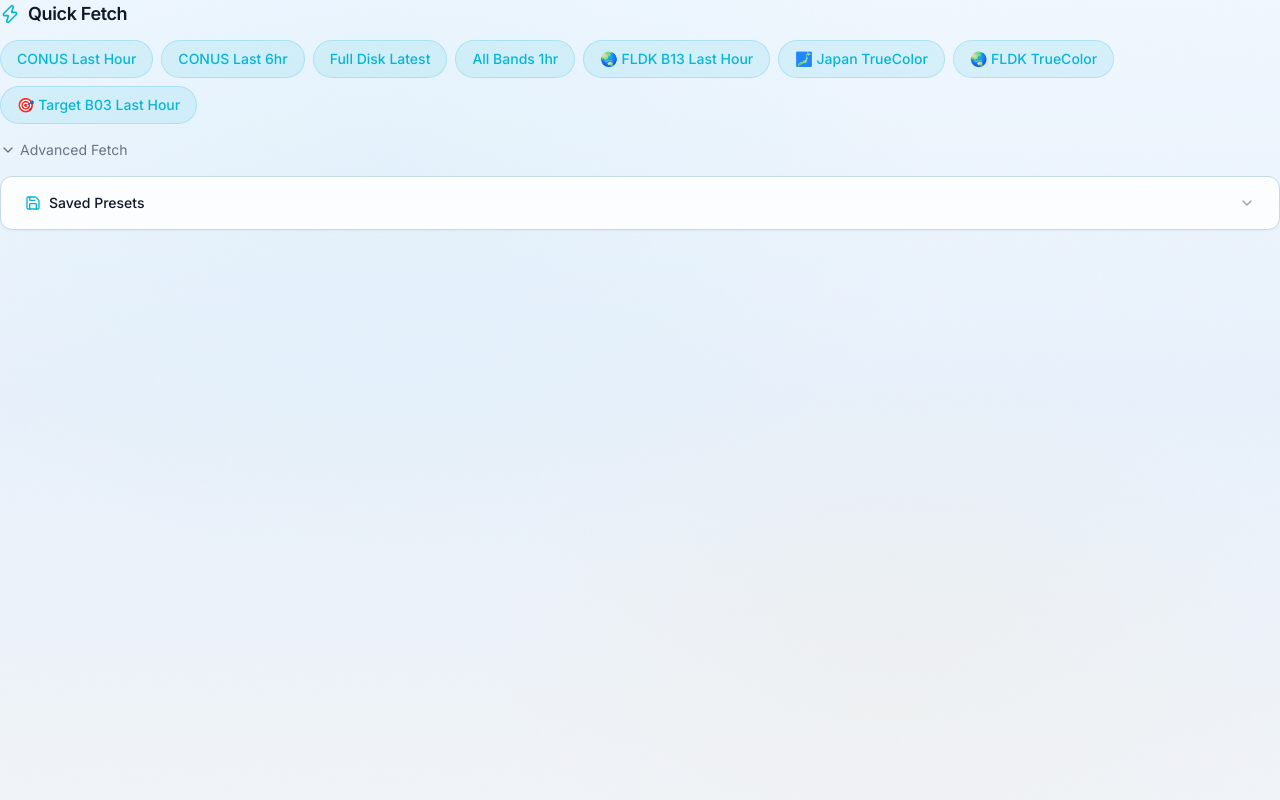
Test: FetchFlowComplete › confirm dialog appears on submit
Click the button with test id "advanced-fetch-toggle" at [64, 150], box [0,140,128,160]
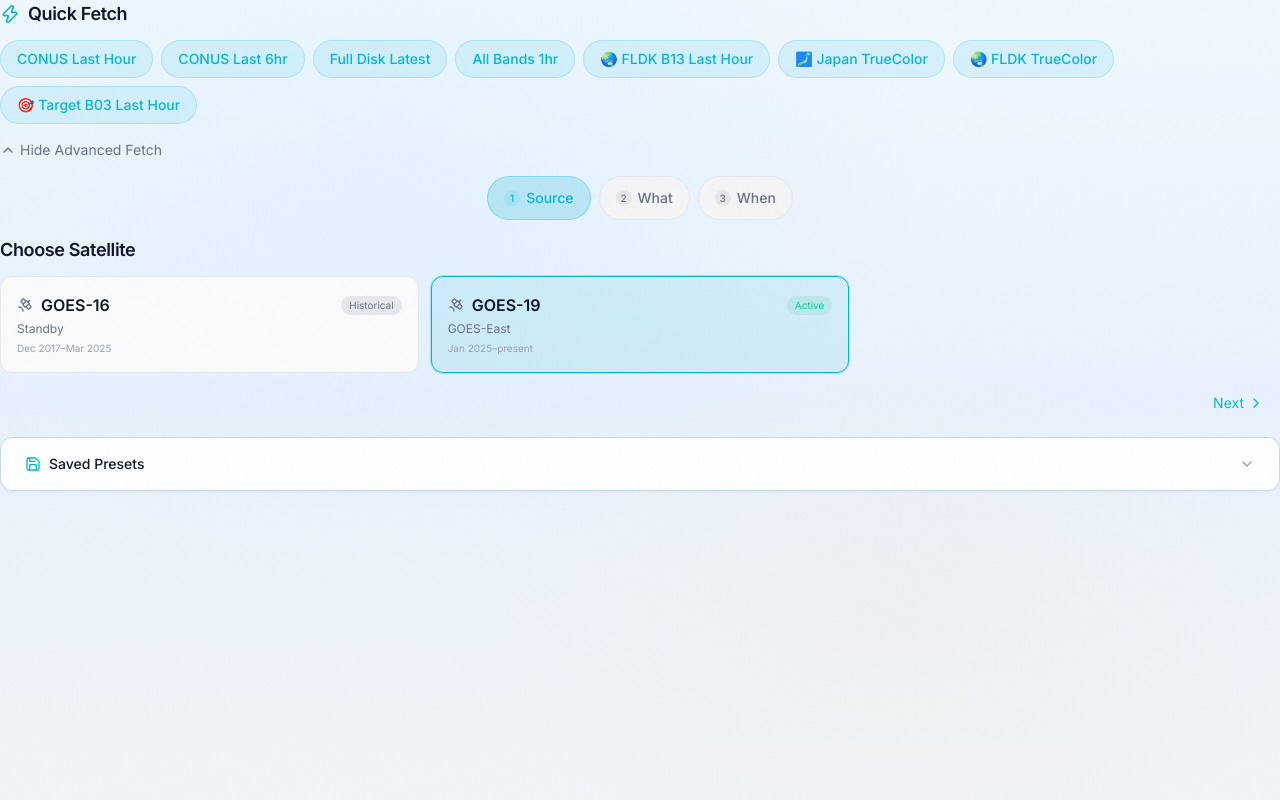
Check: the heading "Choose Satellite" is shown, box [0,239,135,260]
Click the button "Next" at [1239, 403], box [1197,385,1279,421]
(page scrolled)
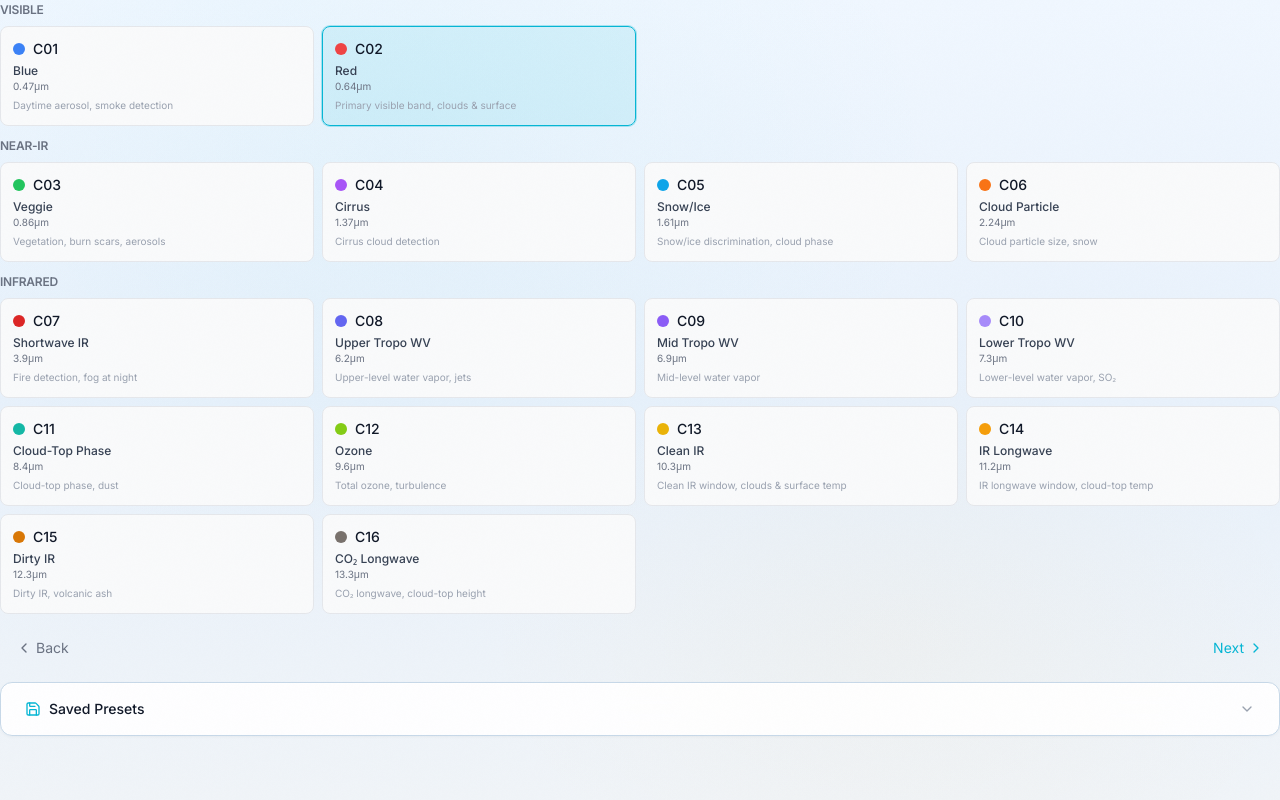
Click the button "Next" at [1239, 648], box [1197,630,1279,666]
(page scrolled)
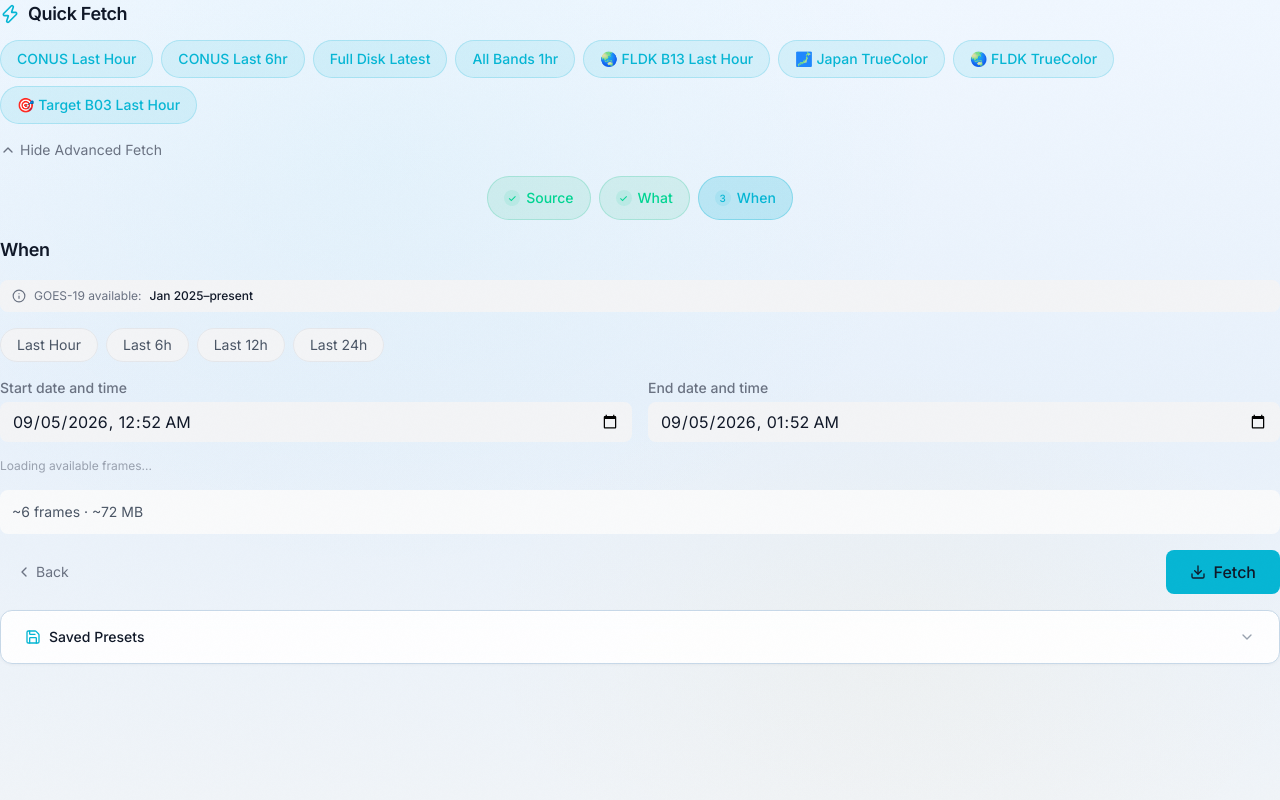
Check: the button "Last Hour" is shown
Click the button "Last Hour" at [49, 345], box [0,328,98,362]
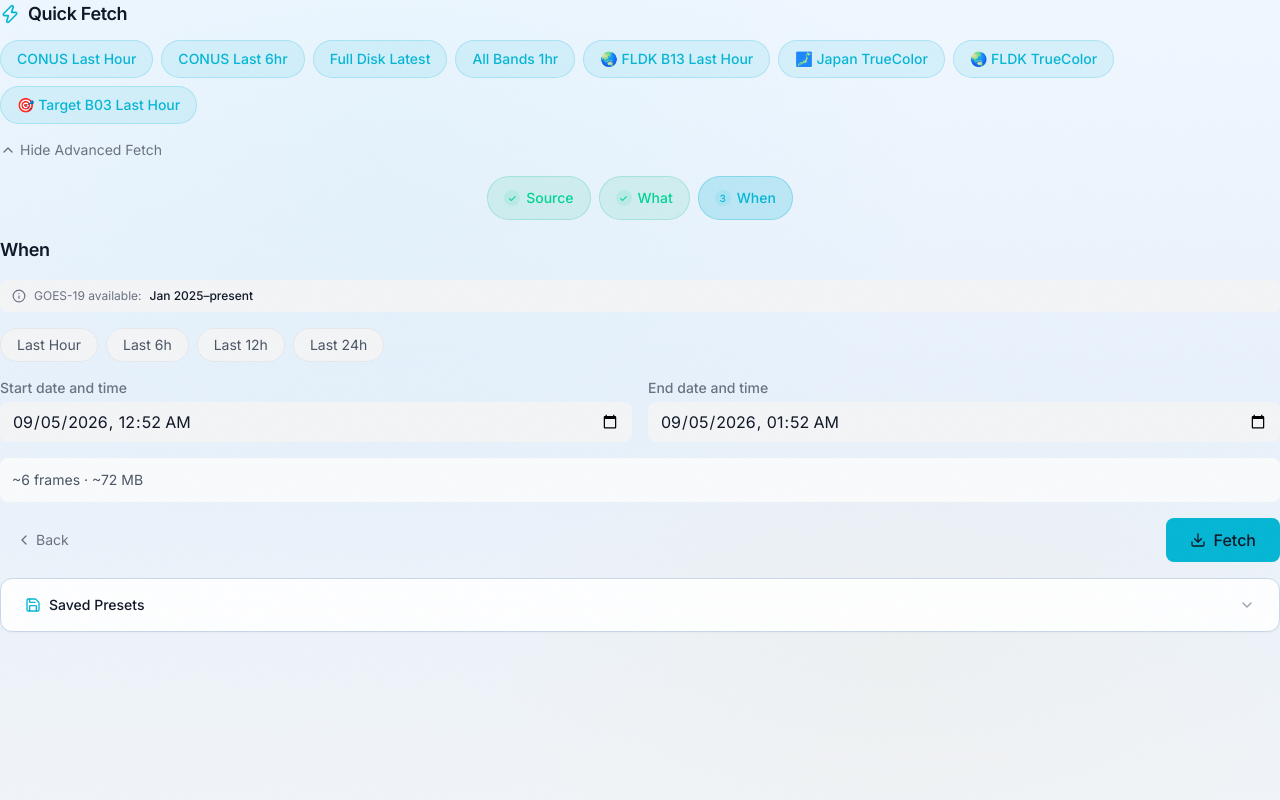
Check: the button "Fetch" is enabled
Click the button "Fetch" at [1223, 540], box [1166,518,1279,562]
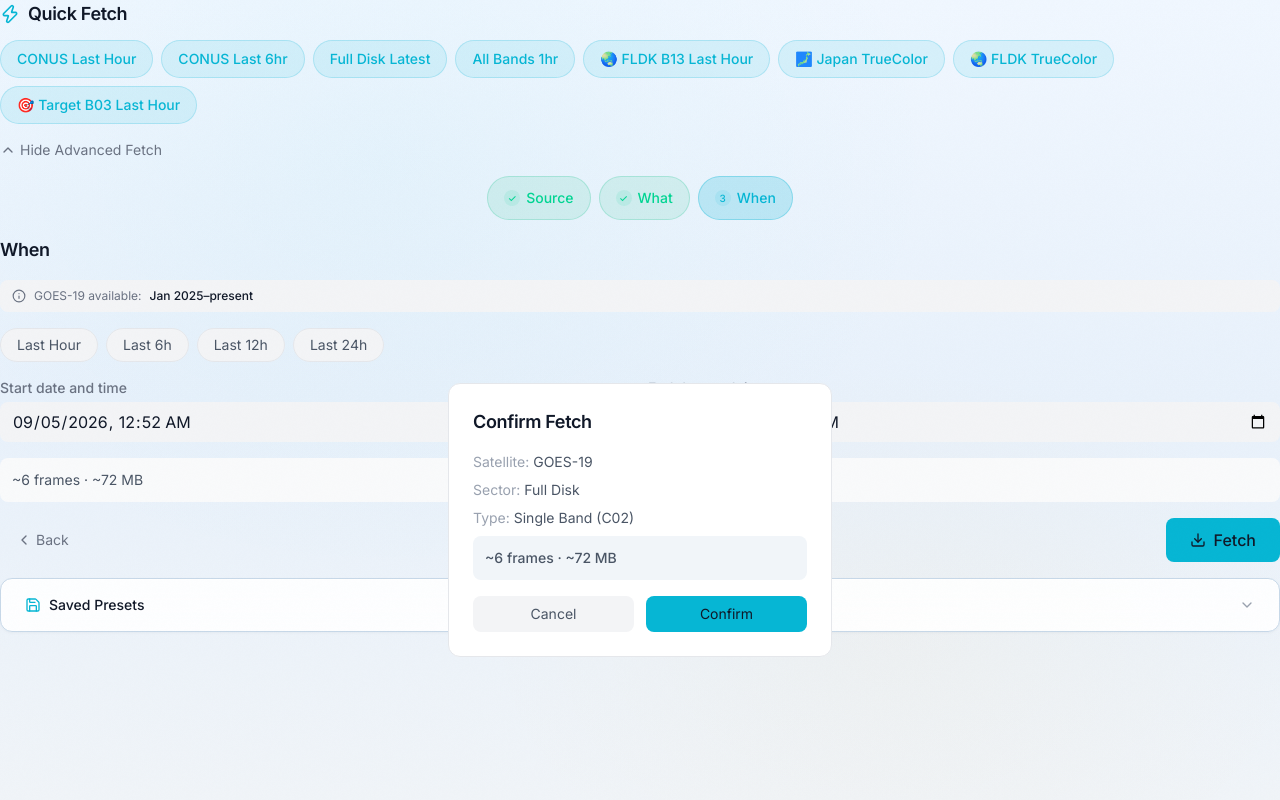
Check: the heading "Confirm Fetch" is shown, box [473,411,592,432]
Check: the button "Confirm" is shown, box [646,596,807,632]
